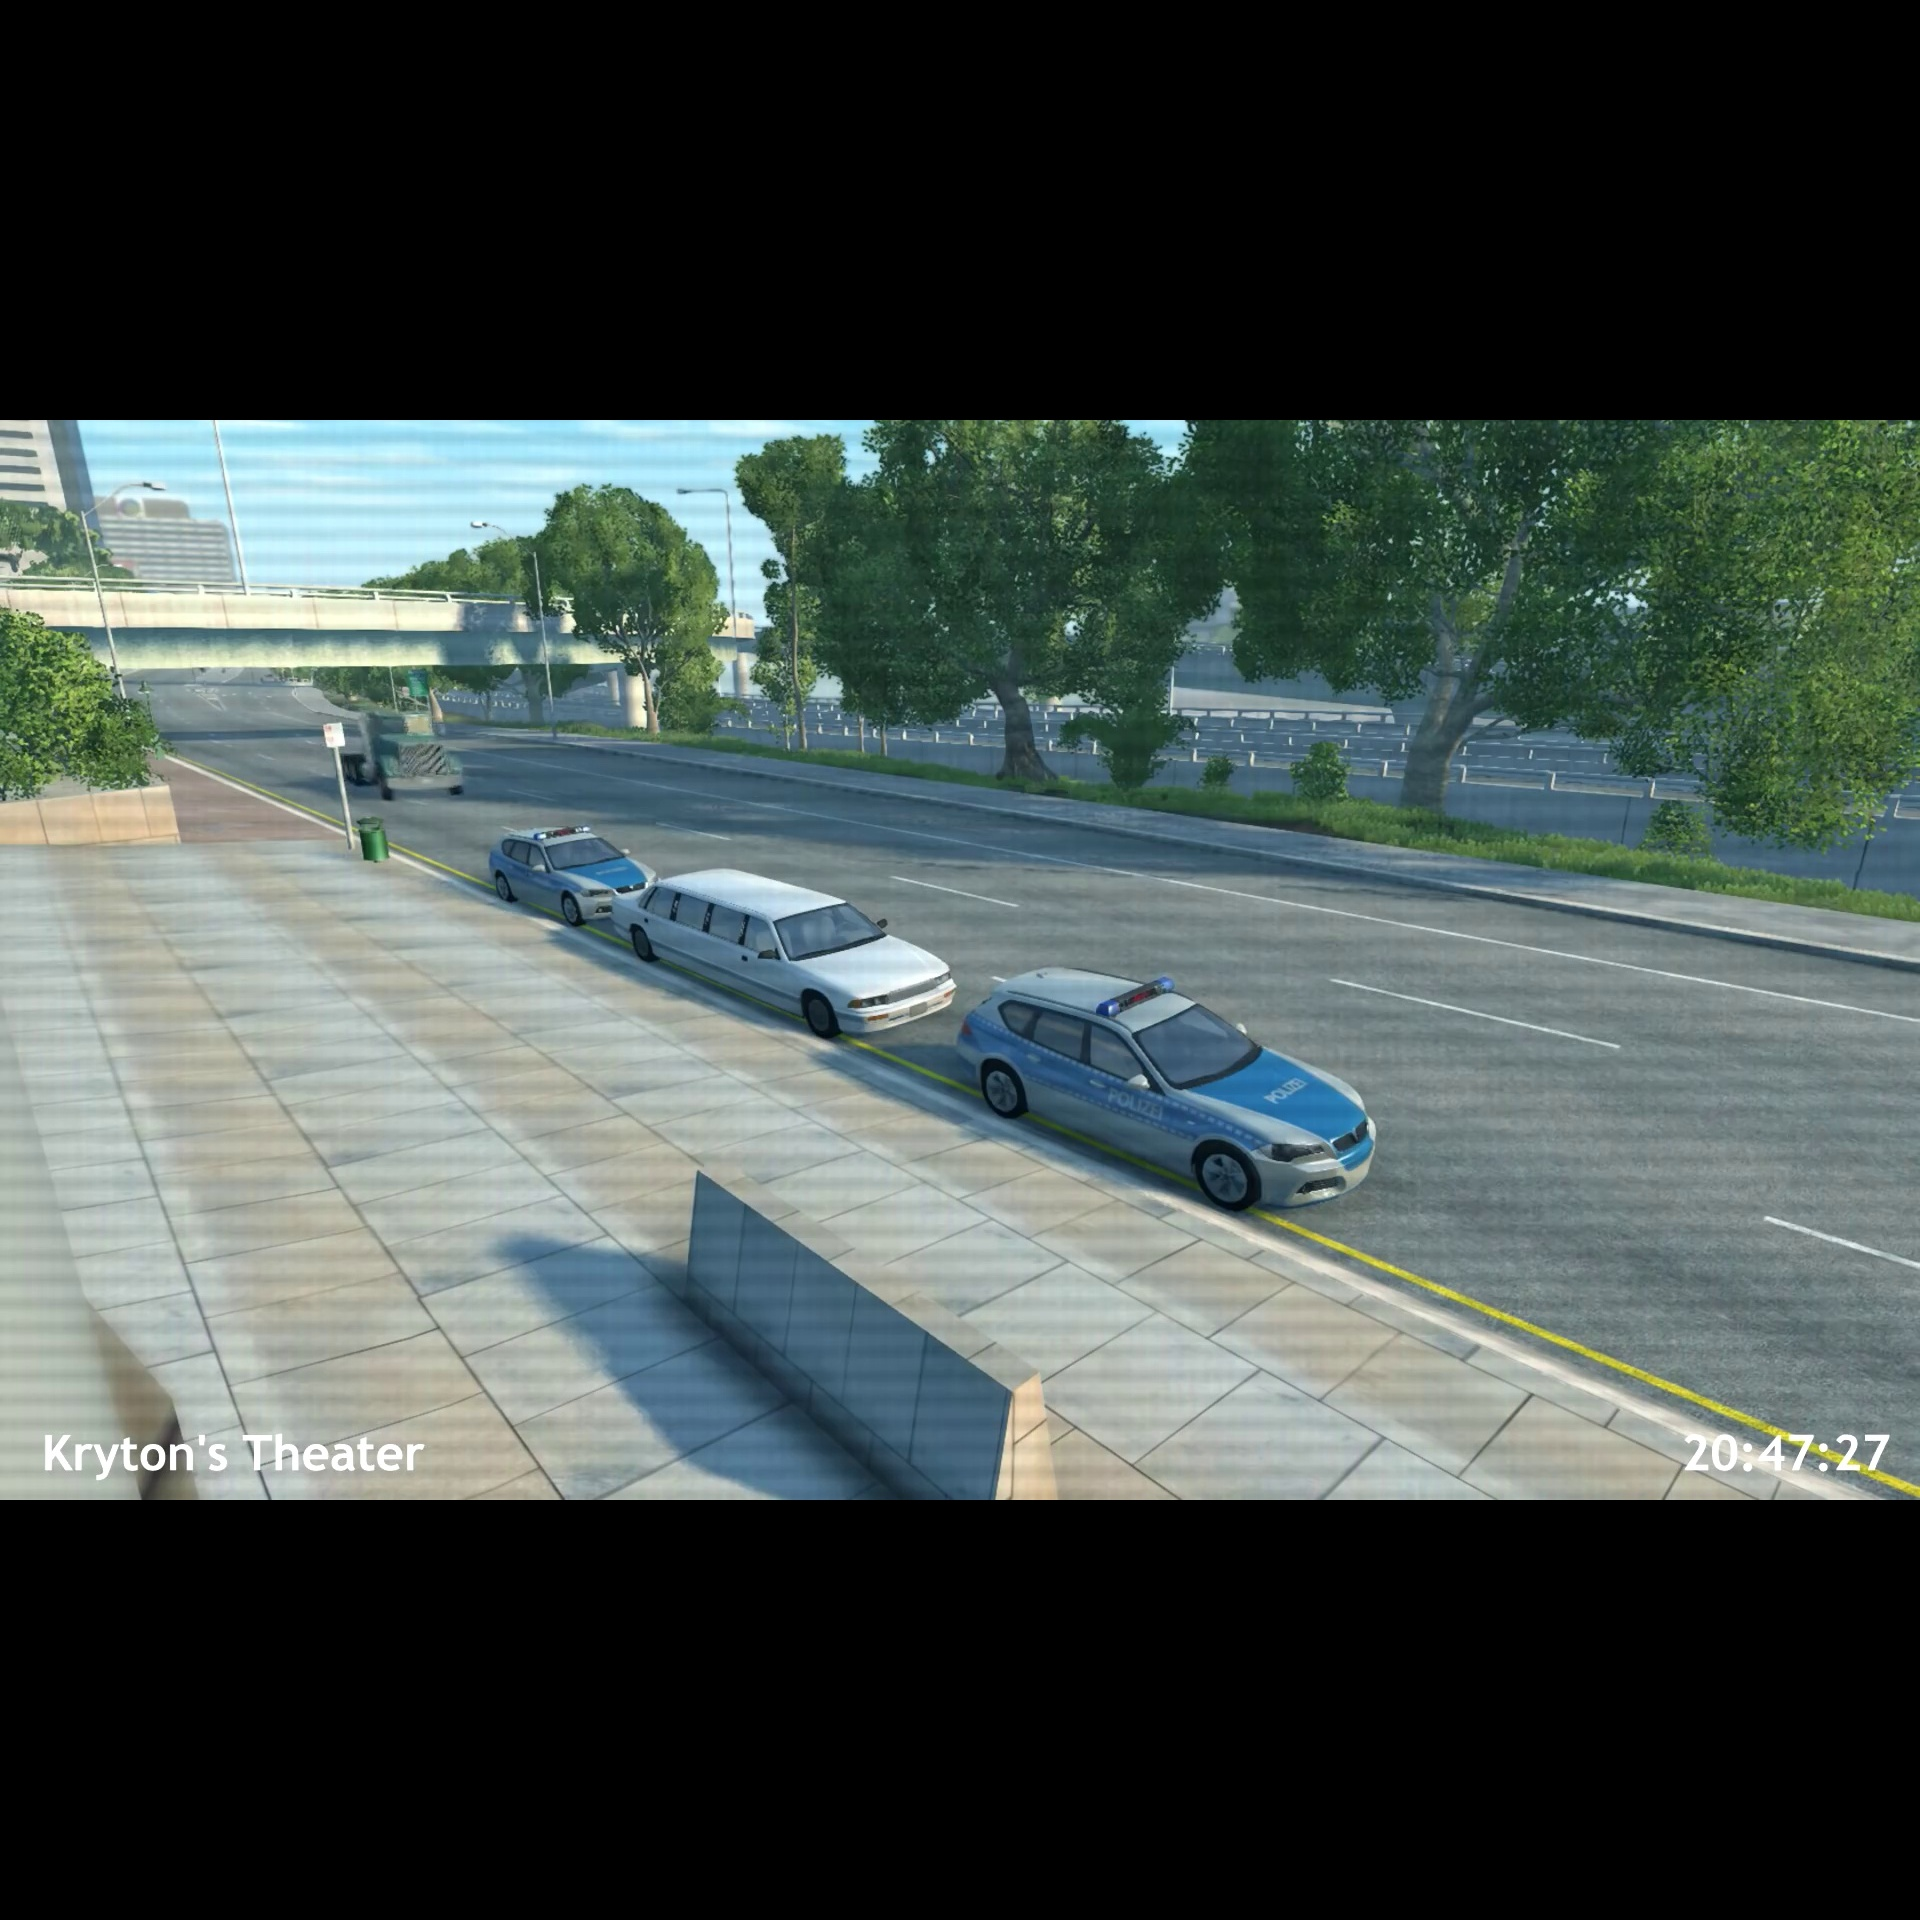vehicle: (944, 958, 1394, 1225), (612, 863, 955, 1043), (482, 814, 656, 921), (311, 703, 475, 796)
